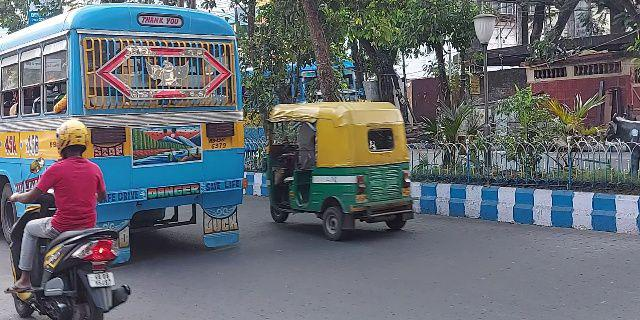Autorickshaw: (263, 100, 417, 241)
Bus: (1, 6, 251, 258)
Motorbike: (7, 121, 132, 319)
